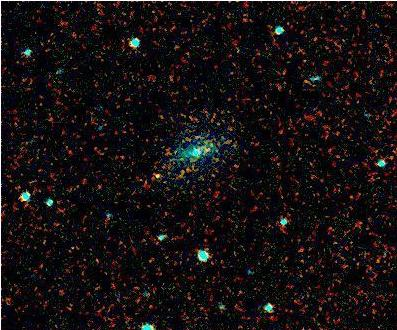star: (142, 160, 172, 190)
